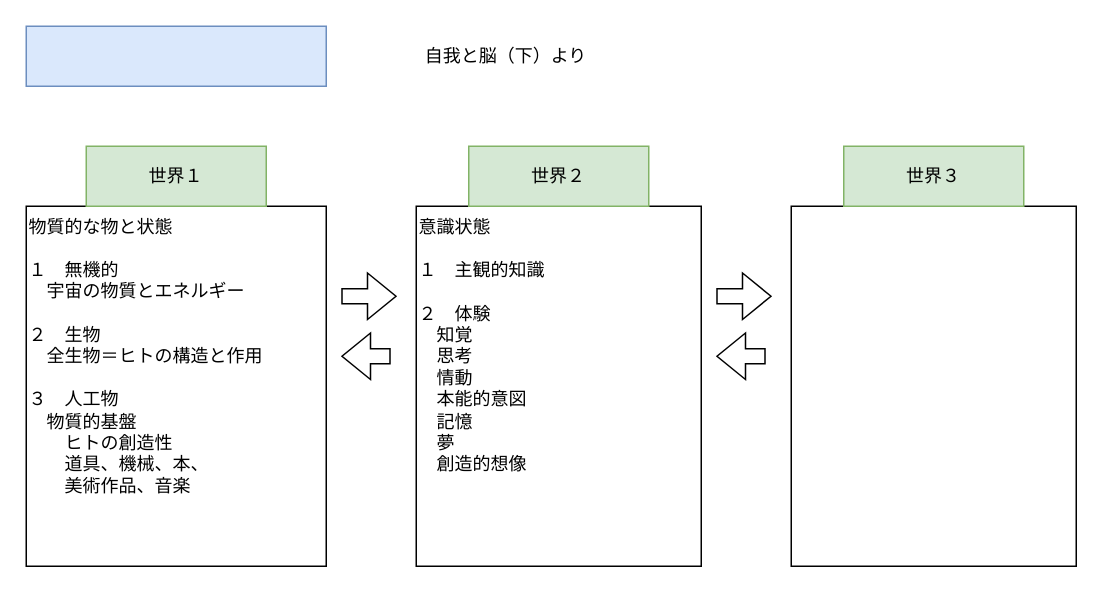
The diagram is 1103 pixels wide and 611 high, and some of its shapes have lost their labels. Each missing label, with the centre of its shape:
"ポパーの３つの世界 各世界の特性" goes at [175,55].
"客観的意味での知識 １ 物質的基盤に符号化された文化的遺産 哲学的 神学的 科学的 歴史的 文学的 芸術的 技術的 ２ 理論体系 科学的問題 批判的議論" goes at [933,385].
